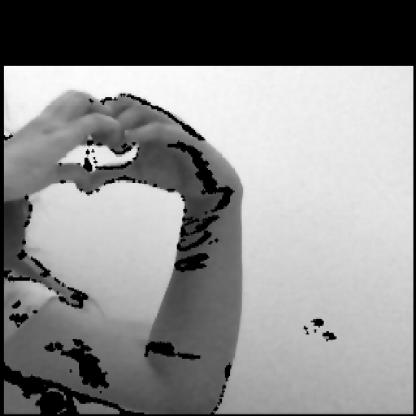heart: (17, 73, 214, 237)
